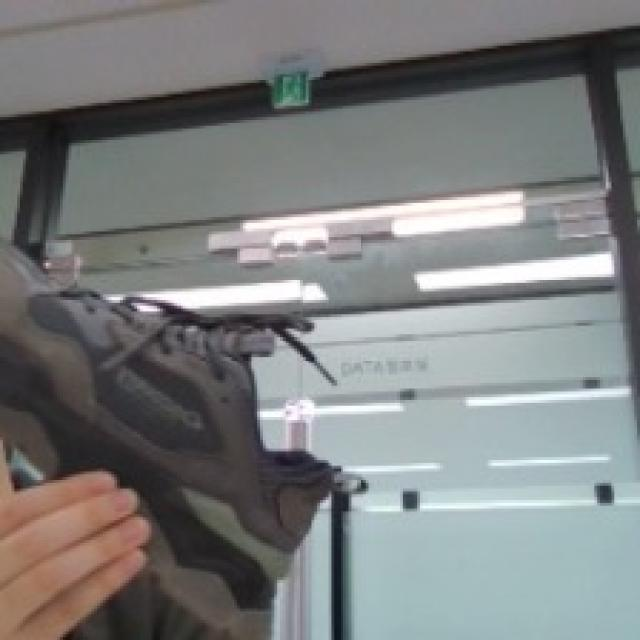shoe: (0, 237, 340, 640)
